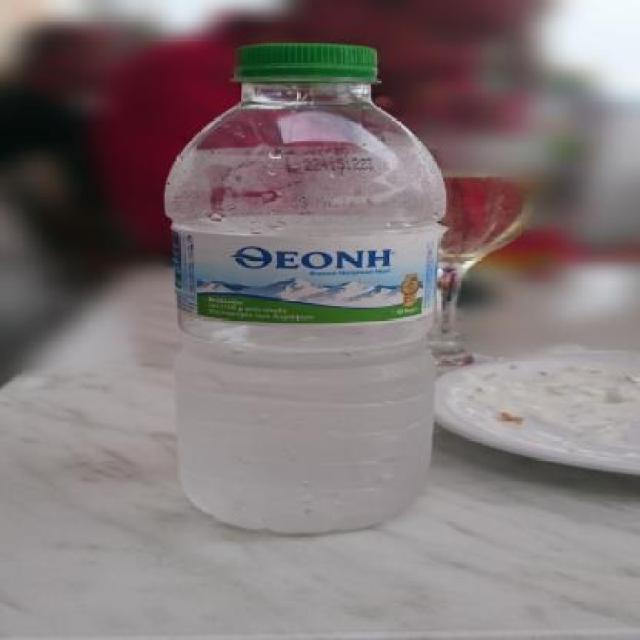bottle: (161, 29, 467, 548)
